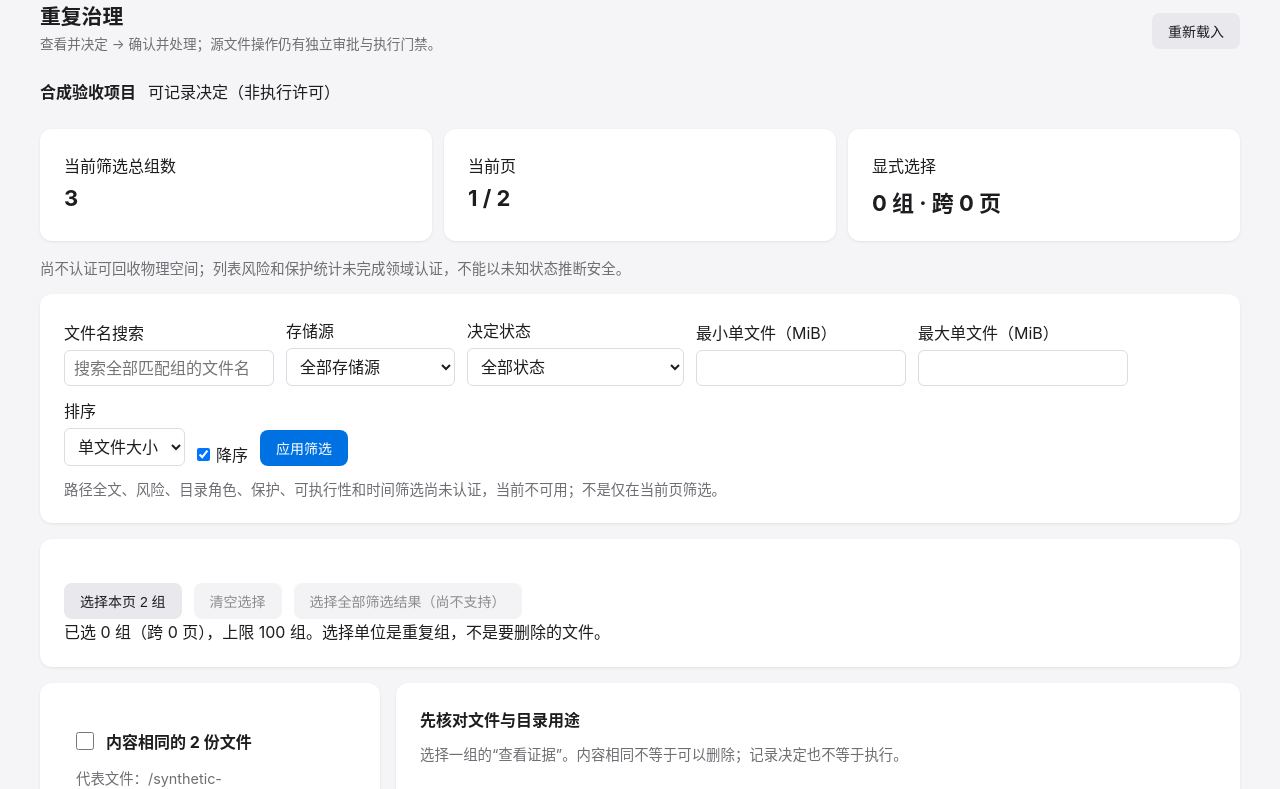
Test case: governance workbench selection and records-only flow › selects only the current loaded page, retaining choices on sort and warning on filter changes
Click the button "选择本页 2 组": x=123, y=601 x1=64 y1=583 x2=182 y2=619
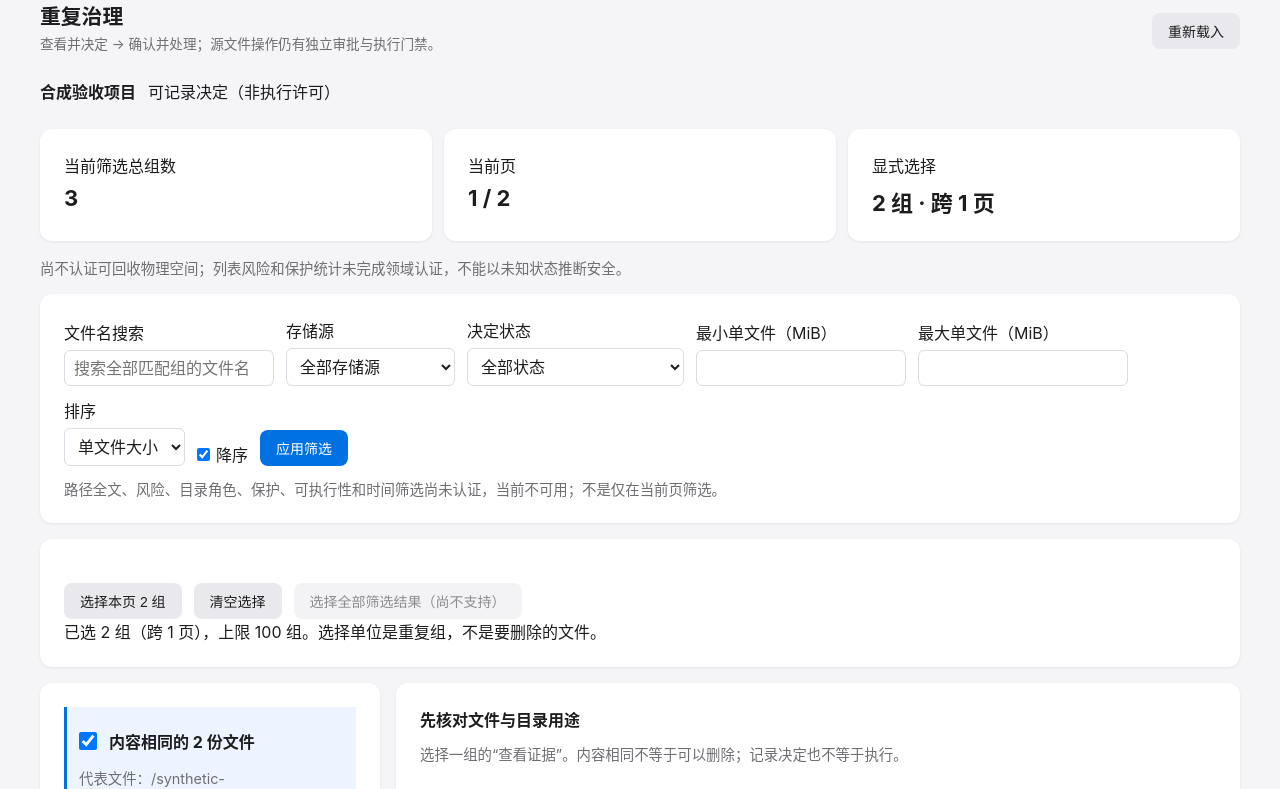
In the field labelled "文件名搜索": x=169, y=368 x1=64 y1=350 x2=274 y2=386, type "marker"
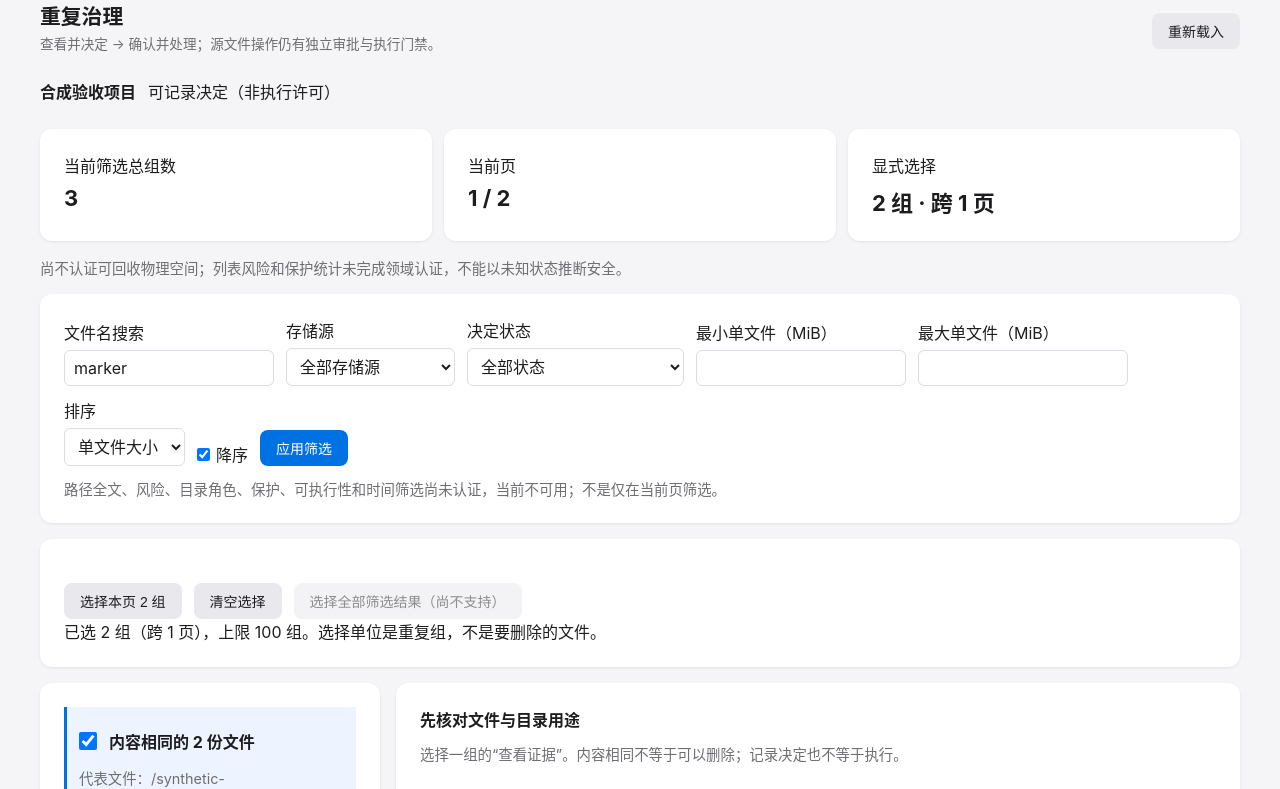
Click the button "应用筛选": x=304, y=448 x1=260 y1=430 x2=348 y2=466
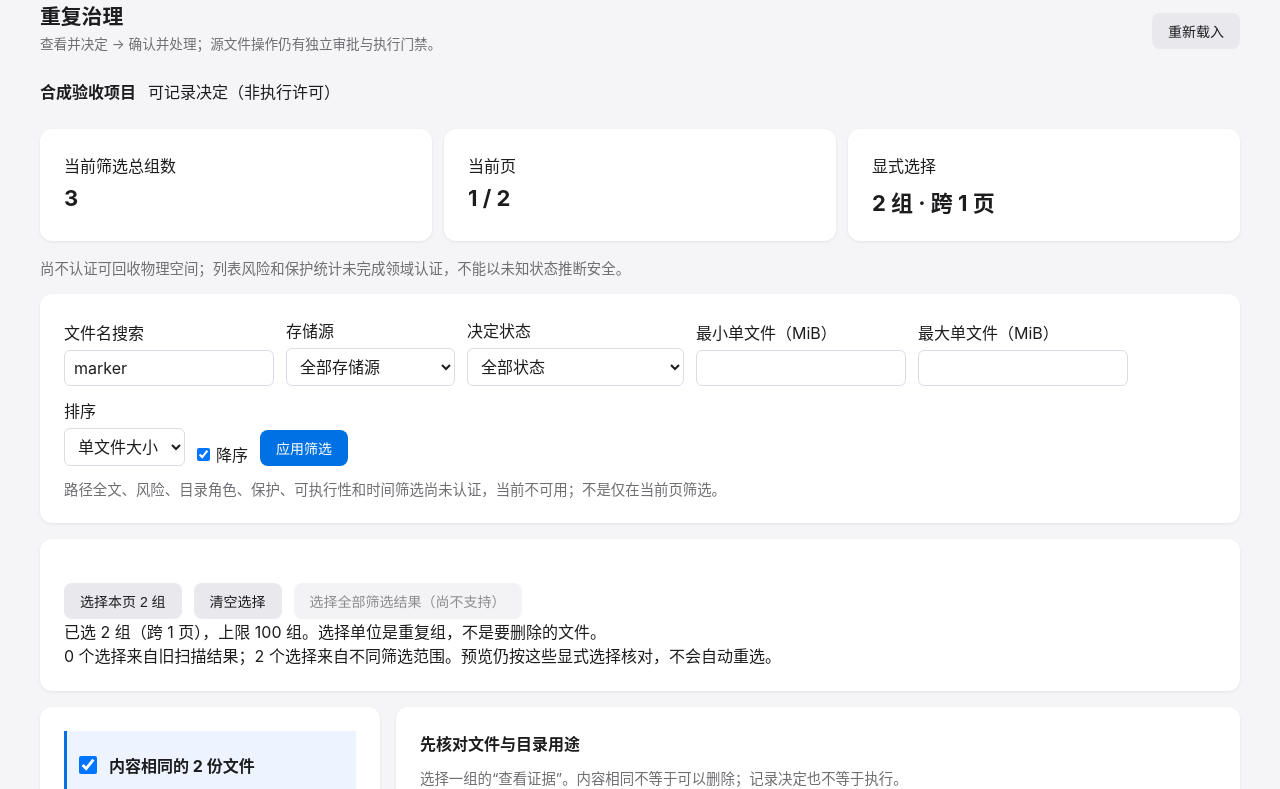
Expected: the text "已选 2 组（跨 1 页），上限 100 组。选择单位是重复组，不是要删除的文件。" is shown, x1=64 y1=622 x2=606 y2=642
Expected: the message "0 个选择来自旧扫描结果；2 个选择来自不同筛选范围。预览仍按这些显式选择核对，不会自动重选。" is shown, x1=64 y1=646 x2=781 y2=666
